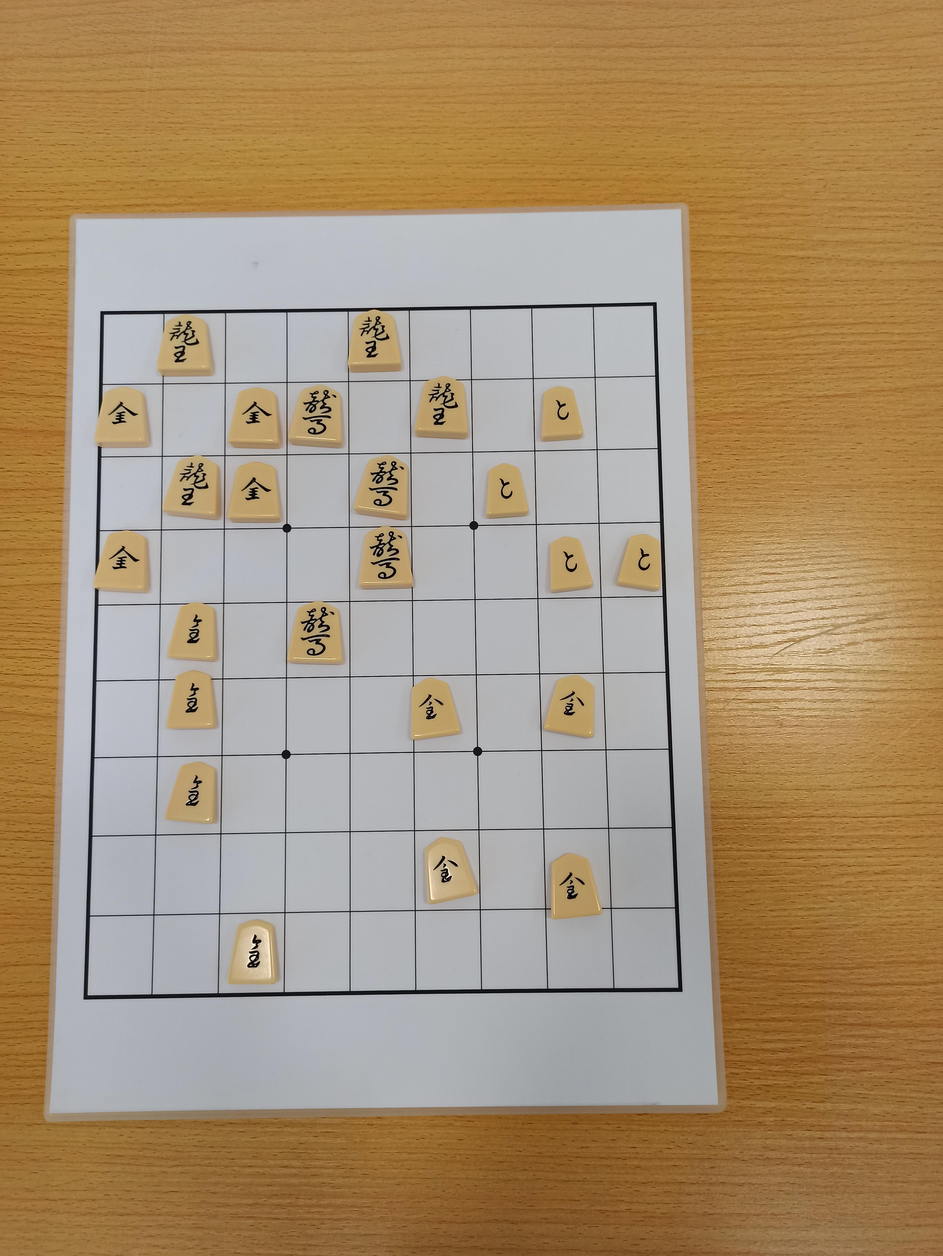board: (87, 304, 679, 998)
